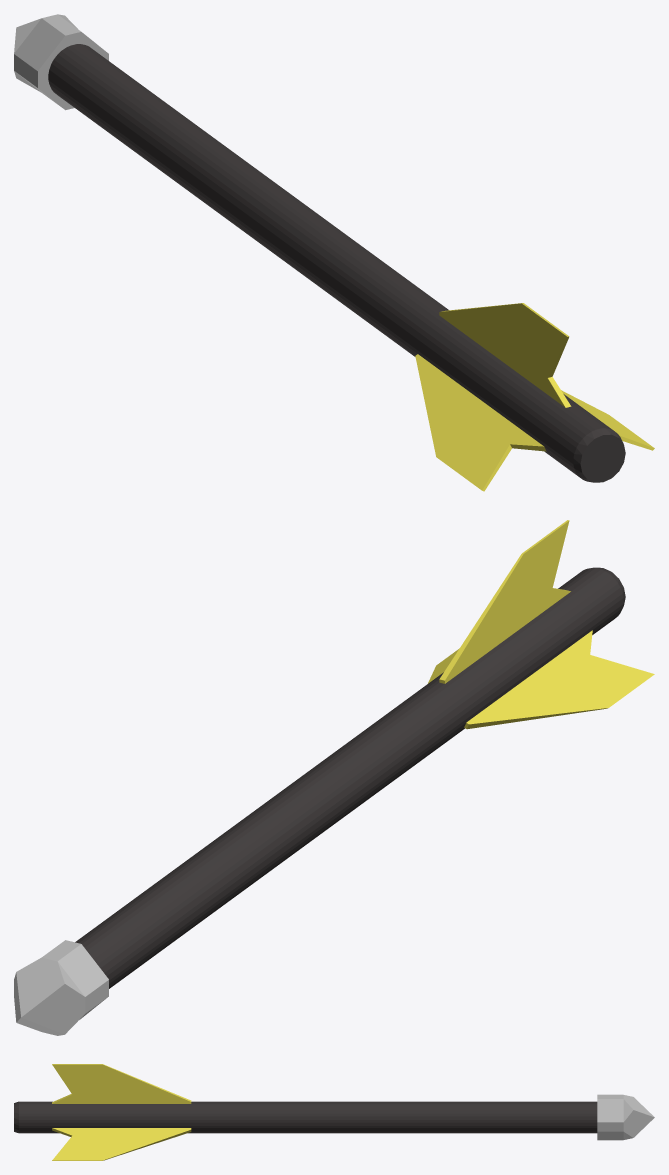
The model's file is Arrow.fbx.
The picture shows the model from 3 angles, top to bottom: view 1: azimuth 30°, elevation 25°; view 2: azimuth 150°, elevation 25°; view 3: azimuth 270°, elevation 25°; orthographic projection. The views are drawn at different scales.
Visible parts, largest first — view 1: Cube; view 2: Cube; view 3: Cube.
Boxes of the visible parts, bbox=[...] form: Cube: bbox=[14, 14, 654, 491]; Cube: bbox=[14, 520, 654, 1035]; Cube: bbox=[14, 1064, 654, 1160].
Size of the model in its own units: 311 by 231 by 1814.
